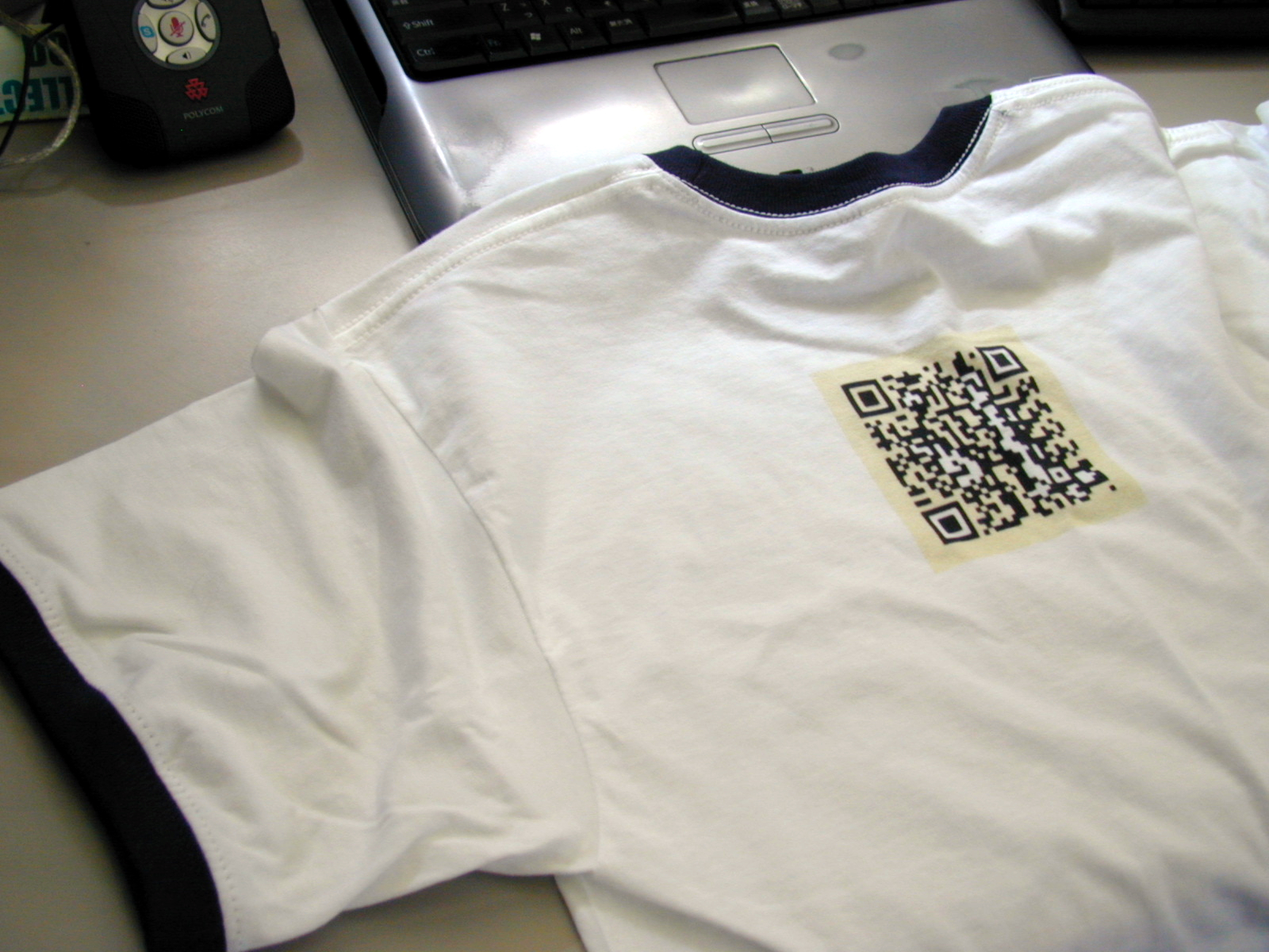QR-CODE: (841, 345, 1117, 545)
